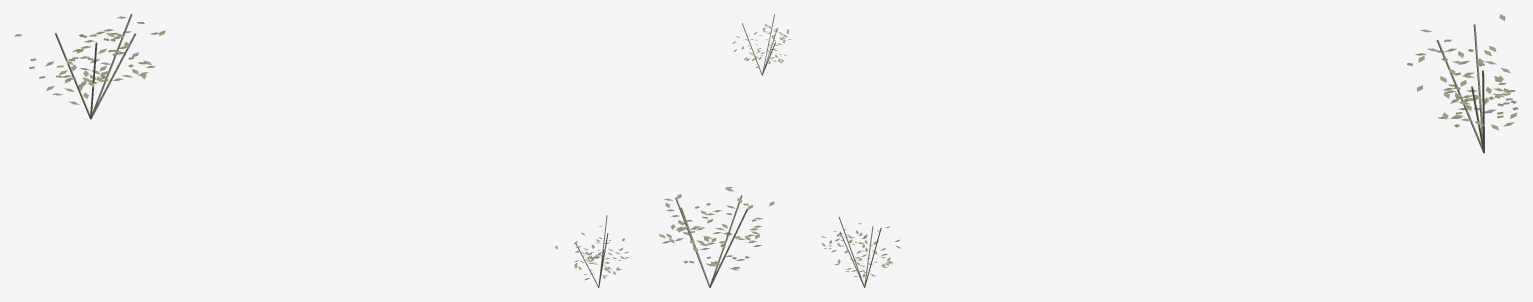
Rendered from AE_Shrubs_2_-2.fbx.
3 renders of one model, left to right at view 1: azimuth 30°, elevation 25°; view 2: azimuth 150°, elevation 25°; view 3: azimuth 270°, elevation 25°, orthographic. The views are drawn at different scales.
Visible parts, largest first — view 1: AE_Shrubs_2_-2_LOD0; view 2: AE_Shrubs_2_-2_LOD0; view 3: AE_Shrubs_2_-2_LOD0.
Part boxes in pixels (x1=…): AE_Shrubs_2_-2_LOD0: x1=14, y1=14, x2=628, y2=287; AE_Shrubs_2_-2_LOD0: x1=659, y1=14, x2=790, y2=287; AE_Shrubs_2_-2_LOD0: x1=821, y1=14, x2=1518, y2=287.
Size of what is drawn, in the model's own units: 549 by 186 by 949.
